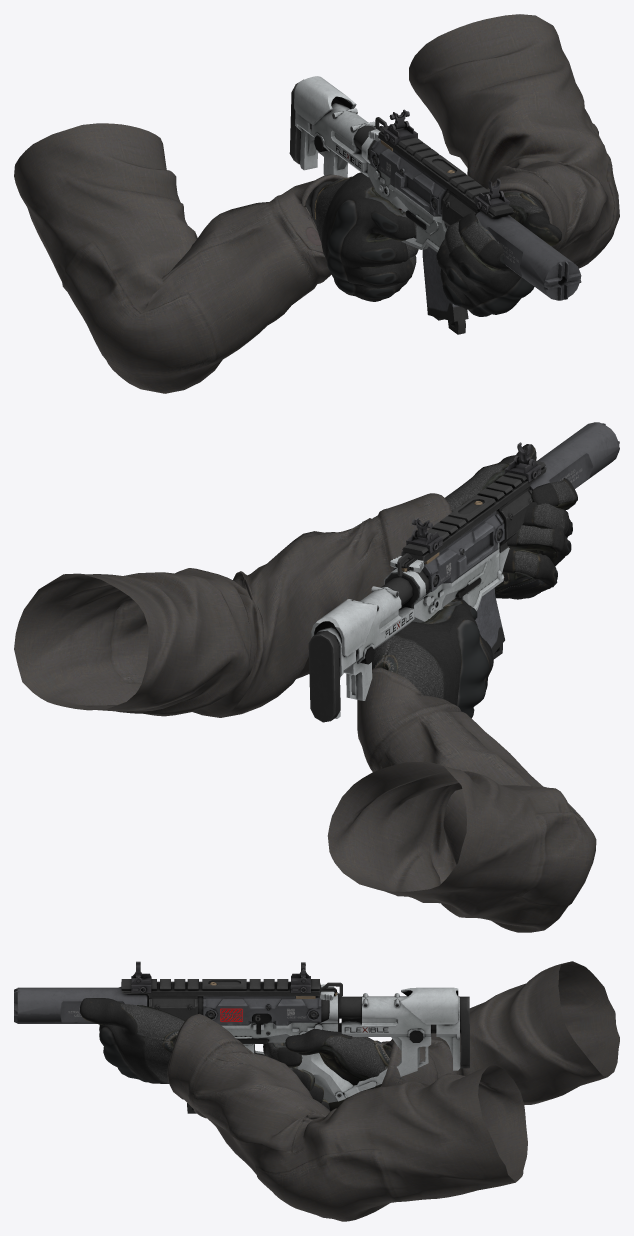
3 renders of one model, top to bottom at view 1: azimuth 30°, elevation 25°; view 2: azimuth 150°, elevation 25°; view 3: azimuth 270°, elevation 25°, orthographic. The views are drawn at different scales.
Visible parts, largest first — view 1: sleeve, Gun, hardknuckle, Trigger_Part_LP.002; view 2: sleeve, Gun, hardknuckle, Trigger_Part_LP.002; view 3: sleeve, Gun, hardknuckle, Trigger_Part_LP.001.
Part boxes in pixels (left/top/right/bottom): sleeve: left=14, top=14, right=619, bottom=393; Gun: left=289, top=76, right=581, bottom=300; hardknuckle: left=305, top=172, right=561, bottom=316; Trigger_Part_LP.002: left=422, top=246, right=468, bottom=334; sleeve: left=14, top=493, right=596, bottom=932; Gun: left=308, top=422, right=619, bottom=722; hardknuckle: left=372, top=444, right=577, bottom=718; Trigger_Part_LP.002: left=475, top=588, right=504, bottom=659; sleeve: left=167, top=961, right=619, bottom=1221; Gun: left=14, top=961, right=469, bottom=1102; hardknuckle: left=80, top=987, right=393, bottom=1111; Trigger_Part_LP.001: left=296, top=982, right=342, bottom=1000.
Size of the model in its own units: 22.89 by 12.75 by 27.83.
Materials: 3 (3 with a texture image).
